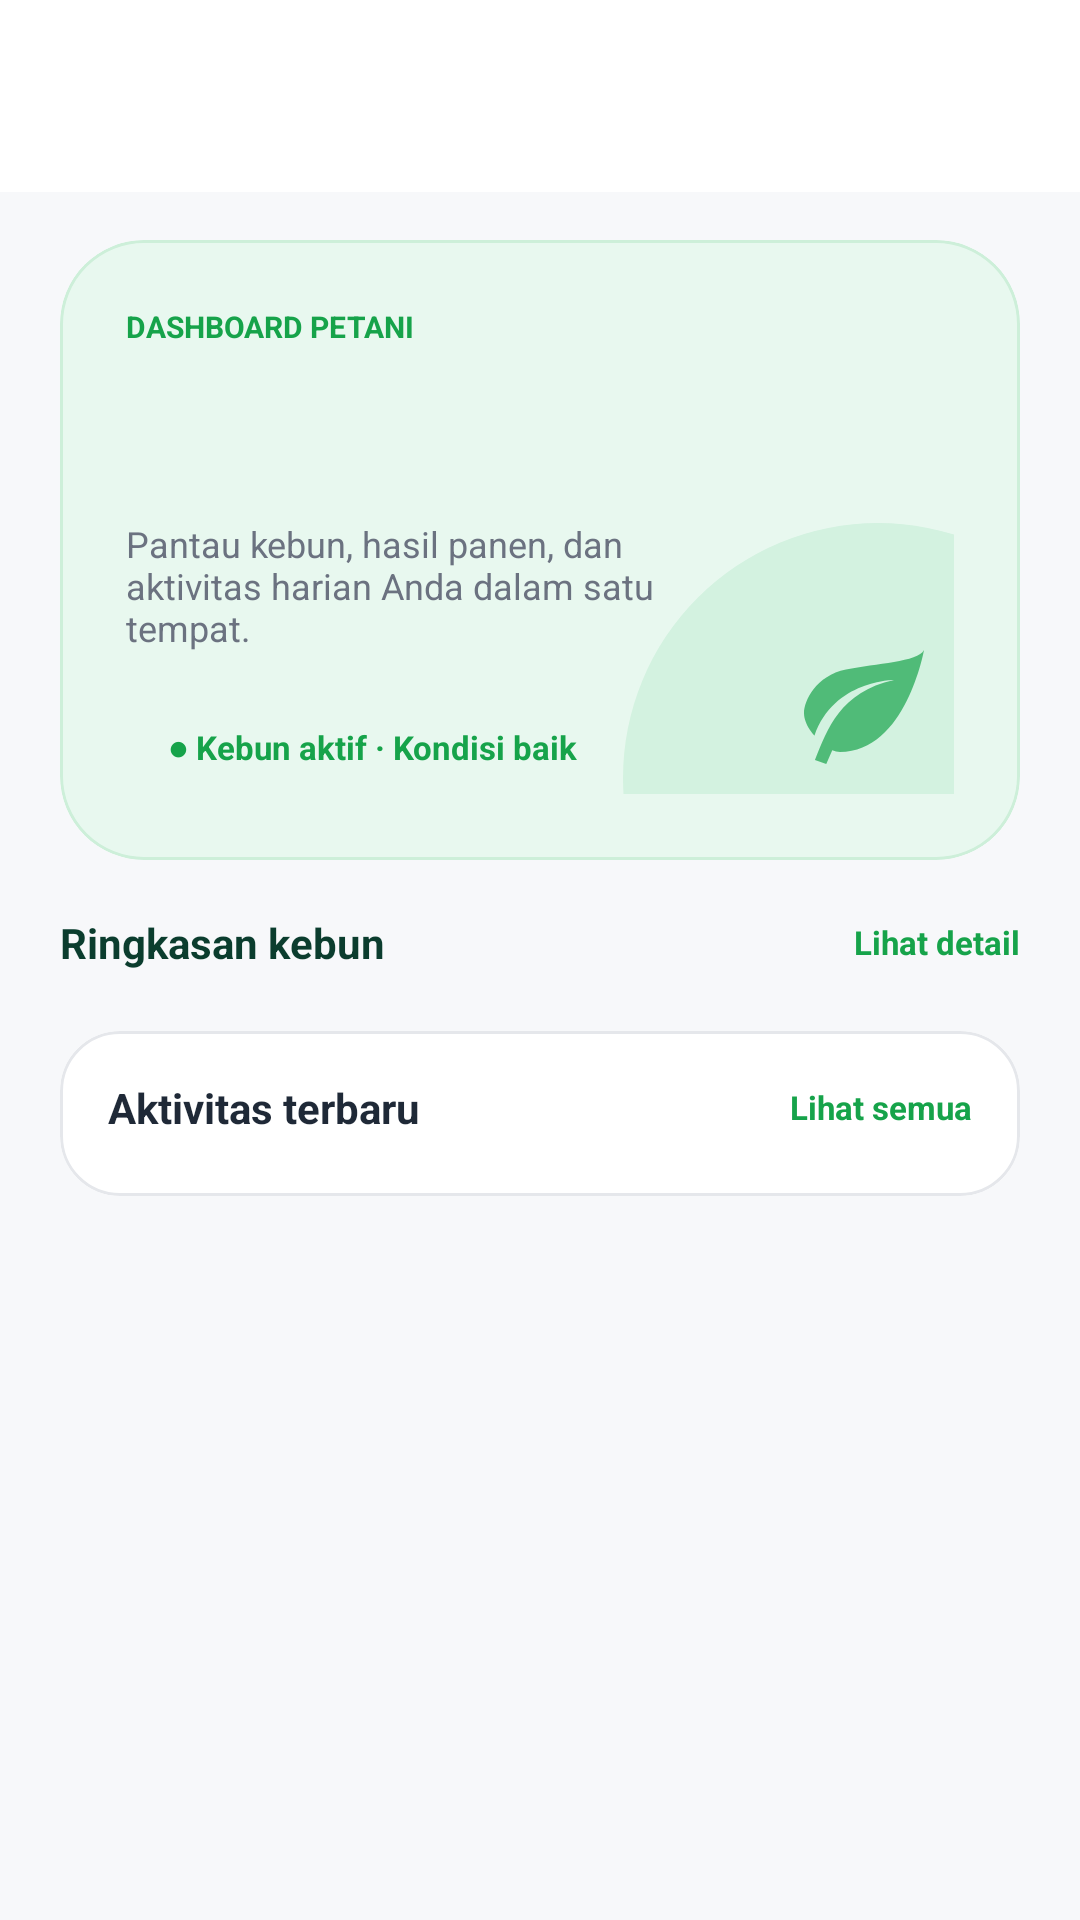

Icon bounding boxes for this 1080w x 1920h phone screenshot, format [x1,y1,x2,y2]:
eco: [804,650,924,764]
